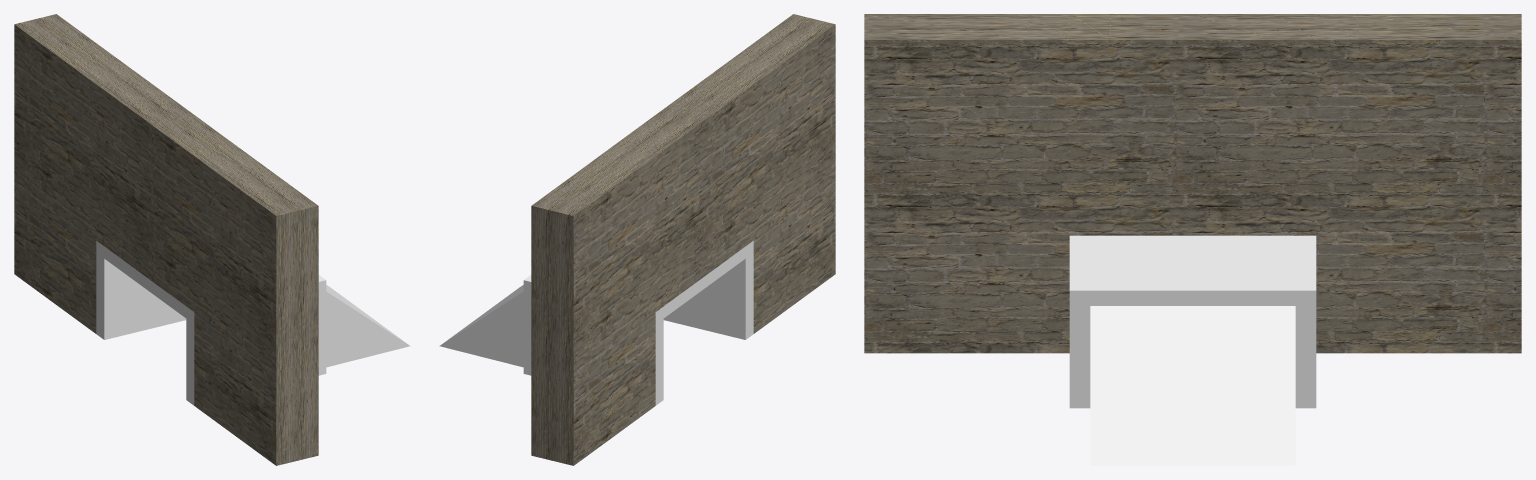
The model's file is goal wall 2.glb.
The picture shows the model from 3 angles, left to right: view 1: azimuth 30°, elevation 25°; view 2: azimuth 150°, elevation 25°; view 3: azimuth 270°, elevation 25°; orthographic projection. The views are drawn at different scales.
Visible parts, largest first — view 1: goal wall 2, goal 2; view 2: goal wall 2, goal 2; view 3: goal wall 2, goal 2.
Part boxes in pixels (bbox=[...]): goal wall 2: bbox=[14, 14, 318, 465]; goal 2: bbox=[96, 241, 410, 405]; goal wall 2: bbox=[531, 14, 835, 465]; goal 2: bbox=[439, 241, 753, 405]; goal wall 2: bbox=[864, 14, 1521, 353]; goal 2: bbox=[1069, 235, 1316, 465].
Bounding box in the file's own units: 170 × 182 × 344.
Materials: 2 (1 with a texture image).
